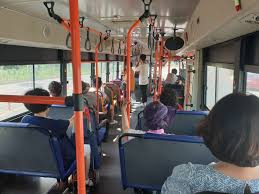seat: (4, 105, 26, 144)
